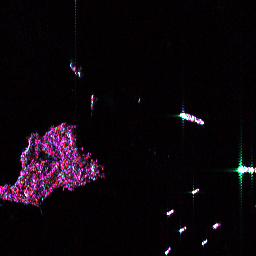ship: (176, 107, 207, 128), (236, 163, 255, 175), (210, 219, 222, 231), (176, 223, 188, 235), (189, 185, 201, 196), (164, 206, 176, 217), (198, 236, 210, 247), (162, 244, 173, 255)
